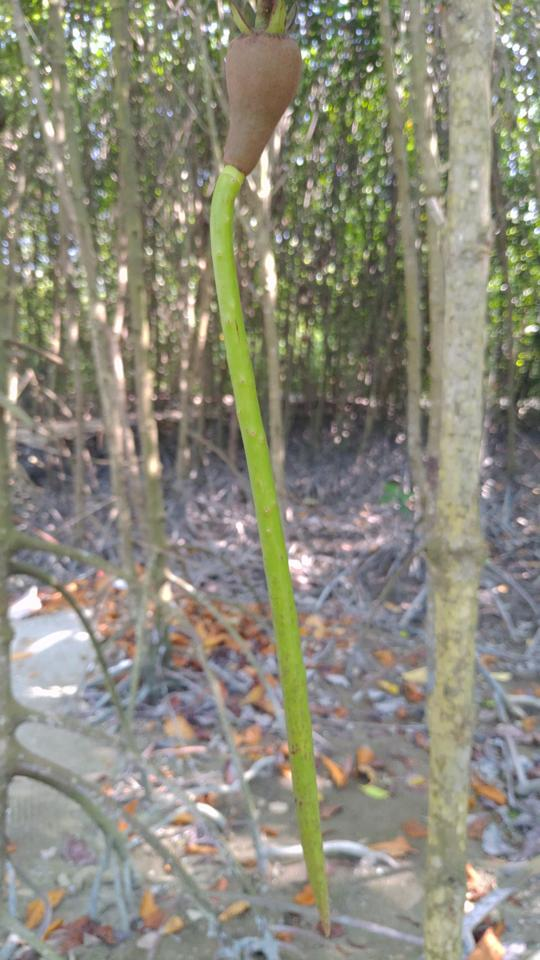setengah matang: (202, 3, 369, 945)
